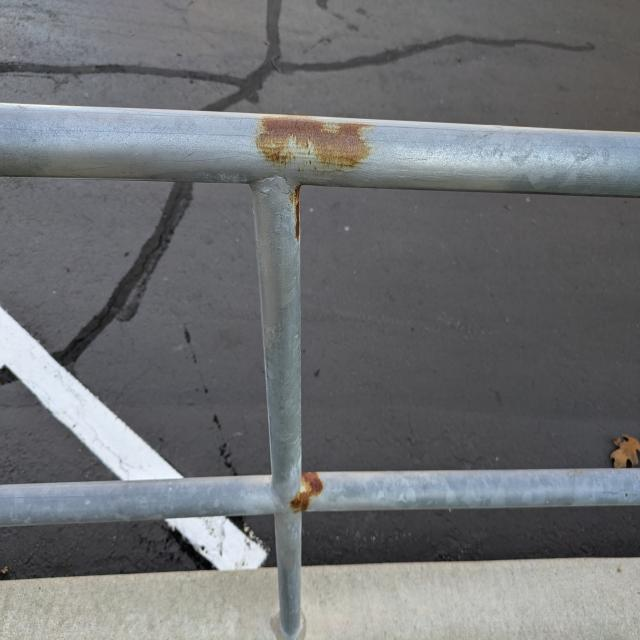Crevice Corrosion: (291, 473, 324, 514), (291, 186, 301, 241)
Uniform Corrosion: (257, 117, 373, 175)
